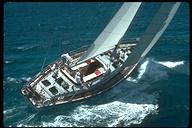sailboat: (19, 2, 182, 111)
water: (130, 78, 188, 123), (6, 5, 57, 56)
